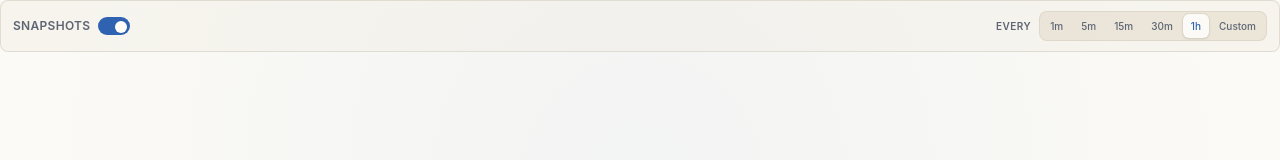
Portfolio snapshot settings › keeps invalid custom intervals local and explains the accepted format
The image size is (1280, 160).
Click the button "Custom" at {"x": 1238, "y": 26}, box [1211,14,1264,38]
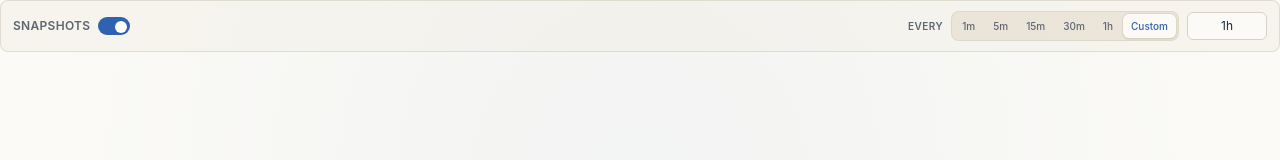
Replace the text in the field named "Custom portfolio snapshot interval" with "nonsense" at {"x": 1227, "y": 26}, box [1187,12,1267,40]
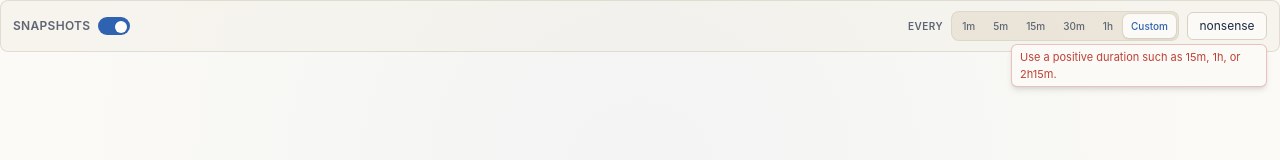
Expected: the message shows "Use a positive duration", [1020,50,1240,80]
Replace the text in the field named "Custom portfolio snapshot interval" with " 2h15m " at {"x": 1227, "y": 26}, box [1187,12,1267,40]
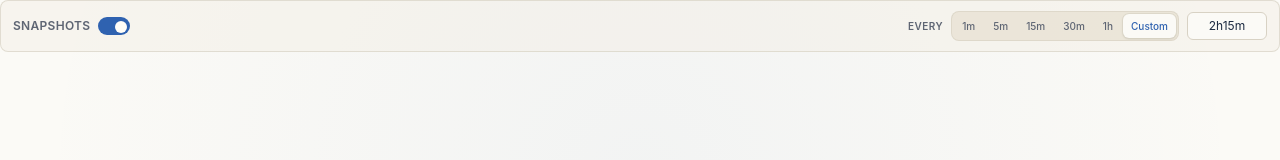
Expected: the message "Use a positive duration such as 15m, 1h, or 2h15m." is gone
